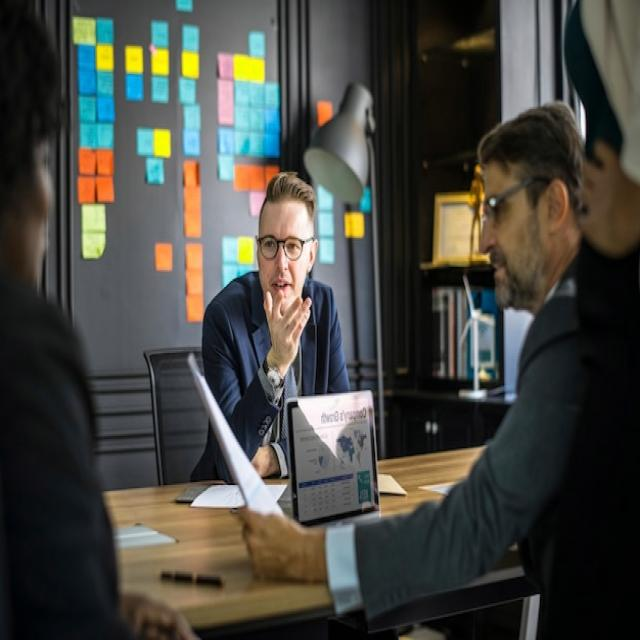adult: (240, 93, 585, 608), (196, 178, 348, 487)
